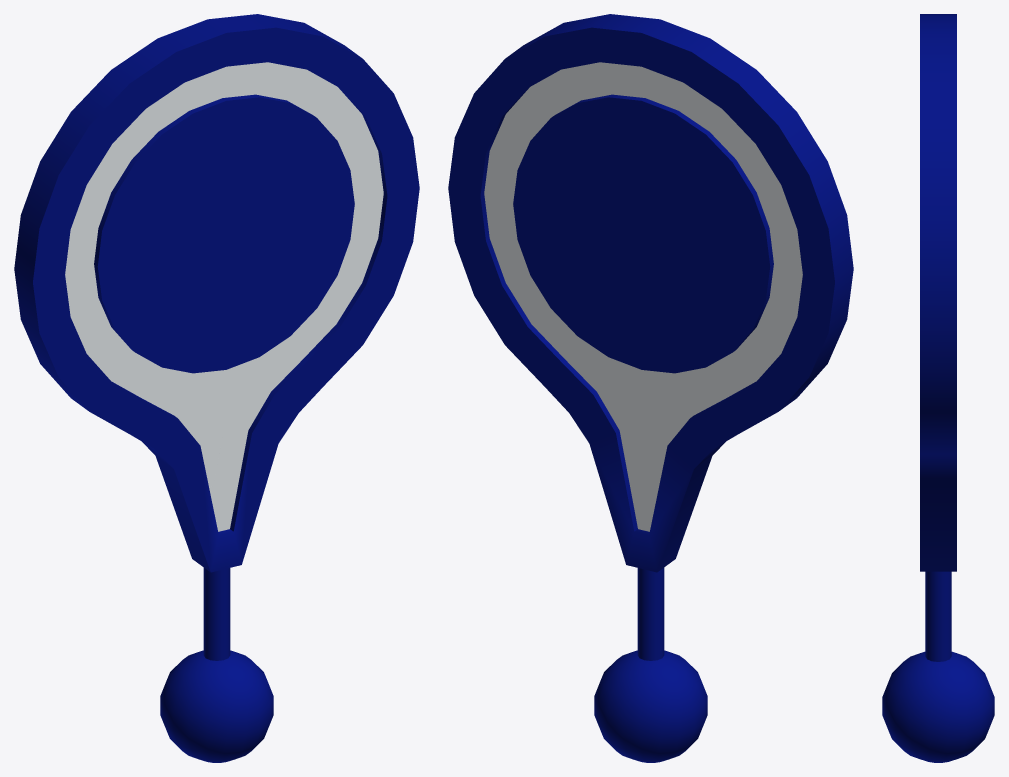
Rendered from yuansu05.f690c94.glb.
The picture shows the model from 3 angles, left to right: view 1: azimuth 30°, elevation 25°; view 2: azimuth 150°, elevation 25°; view 3: azimuth 270°, elevation 25°; orthographic projection.
Parts seen in each view (by area): view 1: yuansu05; view 2: yuansu05; view 3: yuansu05.
Part boxes in pixels (x1=…): yuansu05: x1=14, y1=14, x2=419, y2=762; yuansu05: x1=448, y1=14, x2=853, y2=762; yuansu05: x1=882, y1=14, x2=994, y2=762.
Size of the model in its own units: 1.2 by 2.17 by 0.3053.
